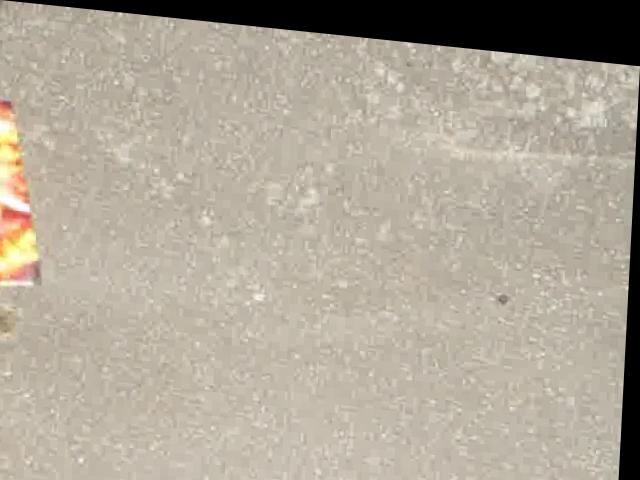fire-poster: (0, 100, 48, 293)
